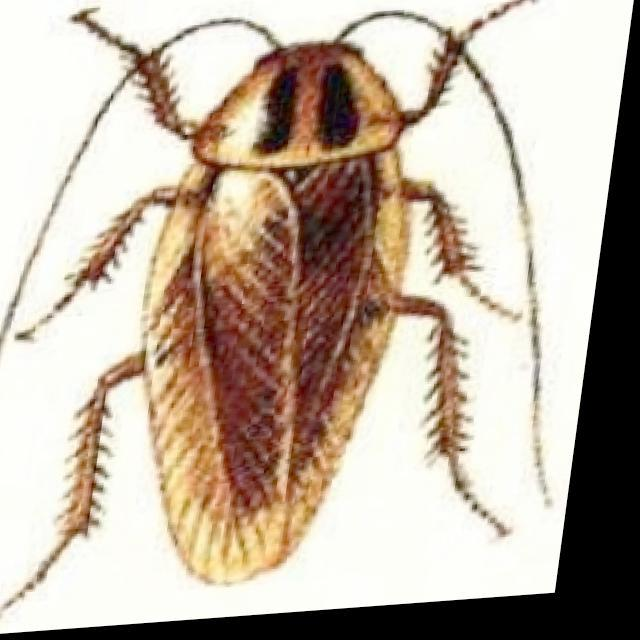cockroach: (2, 2, 557, 612)
